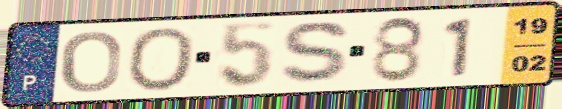1: (440, 16, 479, 79)
5: (216, 20, 277, 91)
8: (368, 14, 429, 85)
O: (123, 25, 197, 93), (58, 29, 124, 95)
S: (276, 19, 357, 87)
